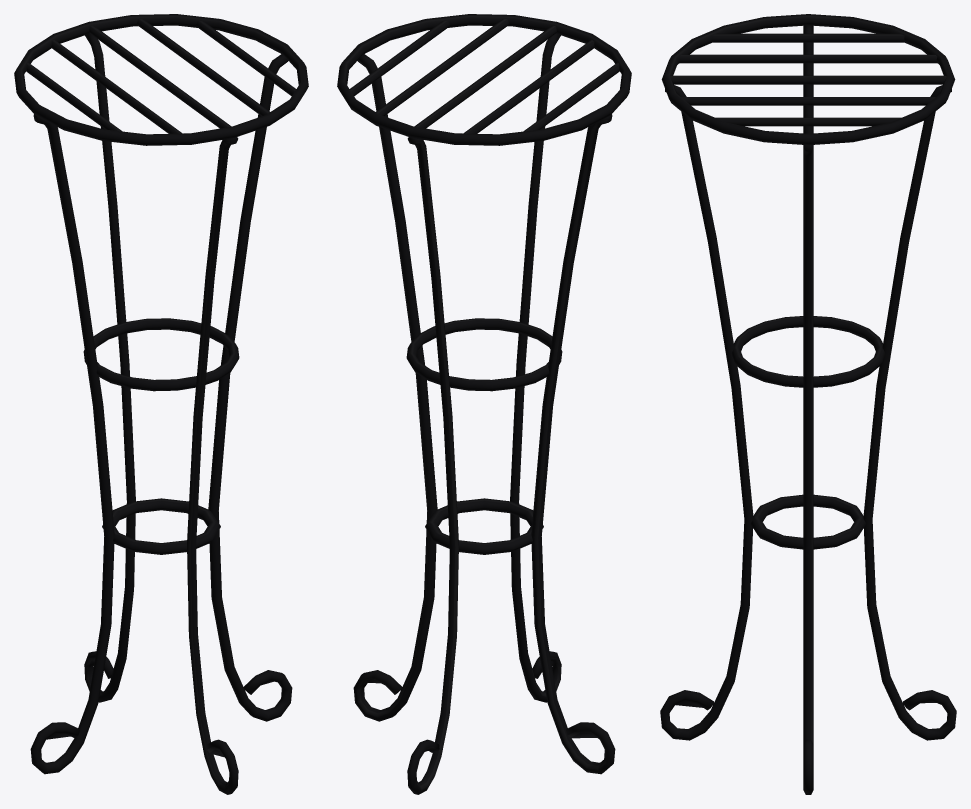
File: Furniture_flowerstand_02_LOD0.fbx
The picture shows the model from 3 angles, left to right: view 1: azimuth 30°, elevation 25°; view 2: azimuth 150°, elevation 25°; view 3: azimuth 270°, elevation 25°; orthographic projection.
Parts seen in each view (by area): view 1: Furniture_flowerstand_02; view 2: Furniture_flowerstand_02; view 3: Furniture_flowerstand_02.
Part boxes in pixels (left/top/right/bottom): Furniture_flowerstand_02: left=14, top=14, right=308, bottom=794; Furniture_flowerstand_02: left=337, top=14, right=631, bottom=794; Furniture_flowerstand_02: left=660, top=14, right=956, bottom=794.
Bounding box in the file's own units: 24.32 × 60.18 × 24.32.
